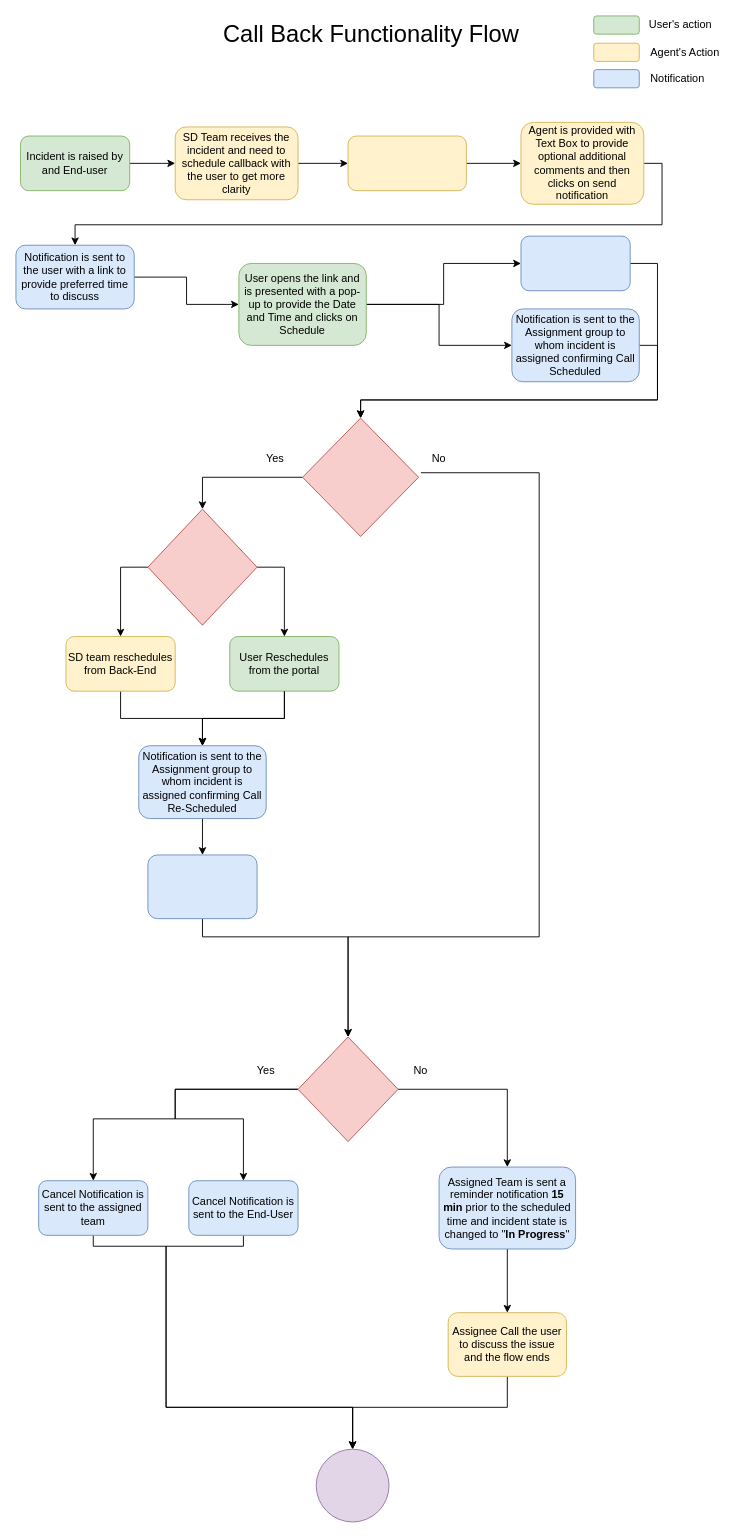
The diagram is 742 pixels wide and 1538 high, and some of its shapes have lost their labels. Each missing label, with the centre of its shape:
Agent assigns ticket to himself and click on " Request Callback " Button: (406,163)
End: (352,1485)
Notification is sent to the End-User confirming Call Re-Scheduled: (202,886)
Notification is sent to the End-User confirming Call Scheduled: (575,263)
User calls SD team to reschedule: (202,566)
User wants to cancel the scheduled call: (347,1089)
User wants to Reschedule Call Back Time: (360,476)
